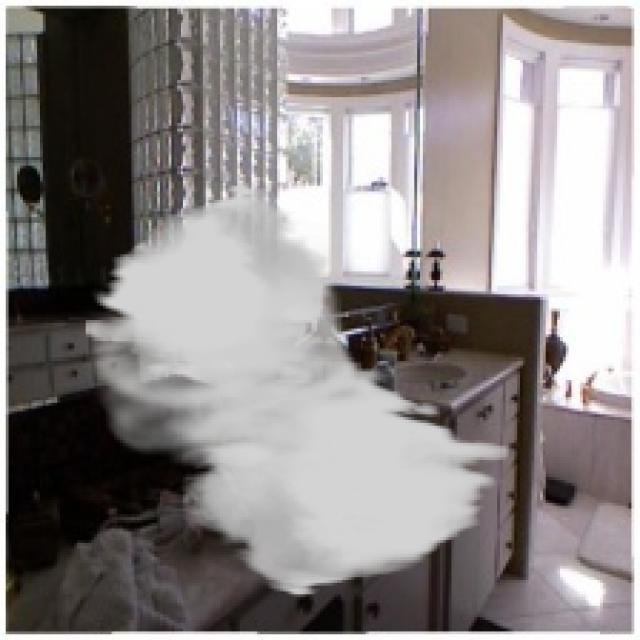smoke: (83, 180, 508, 597)
